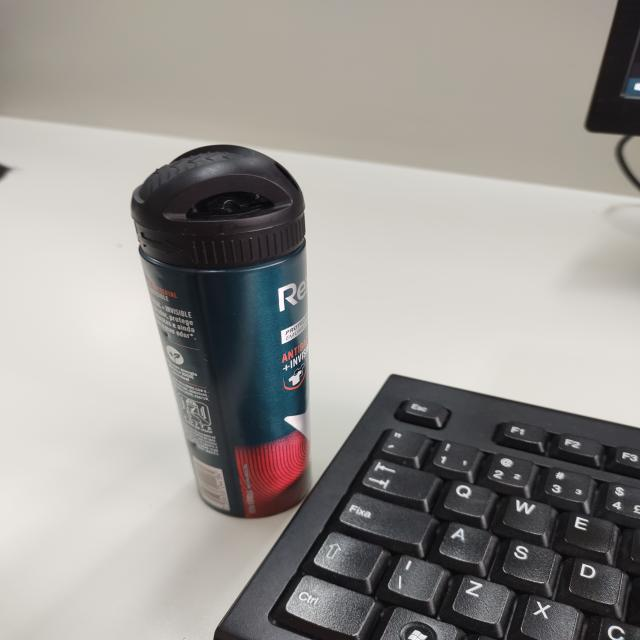Desodorante Azul: (131, 145, 309, 518)
